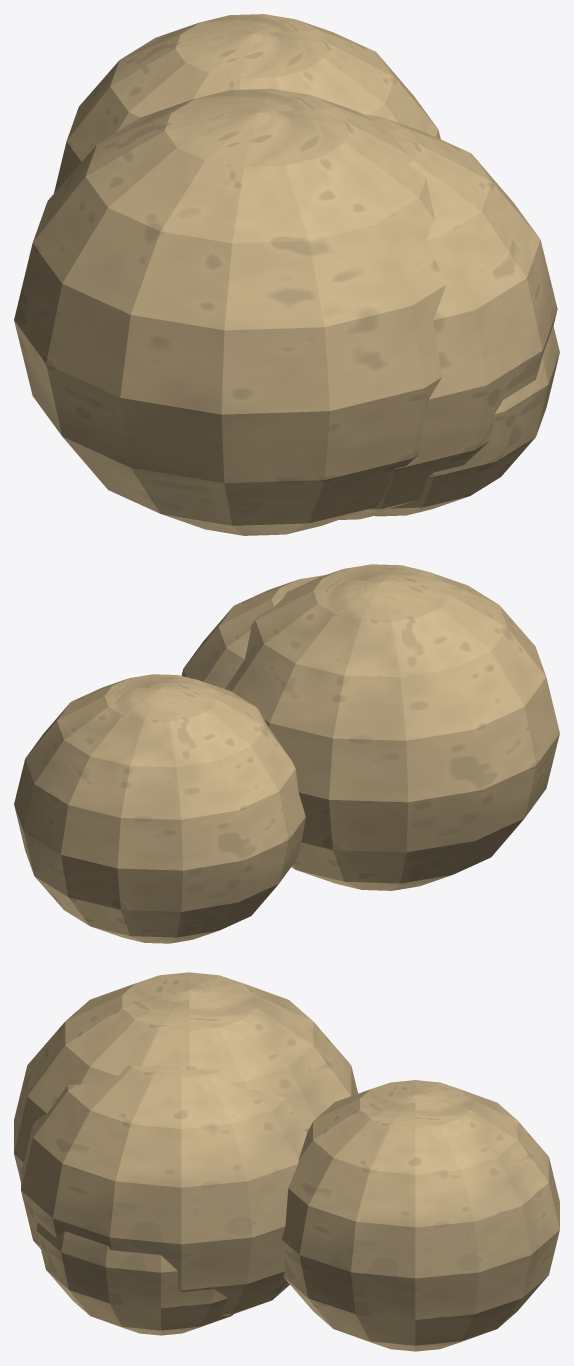
The model's file is puffball_cluster_v2.glb.
3 views of the same model, one above another, from view 1: azimuth 30°, elevation 25°; view 2: azimuth 150°, elevation 25°; view 3: azimuth 270°, elevation 25° (orthographic). The views are drawn at different scales.
Visible parts, largest first — view 1: puffball_cluster_v2; view 2: puffball_cluster_v2; view 3: puffball_cluster_v2.
Boxes of the visible parts, x1,y1,x2,y2 form: puffball_cluster_v2: (14,14,559,535); puffball_cluster_v2: (14,564,559,943); puffball_cluster_v2: (14,972,559,1351).
Bounding box in the file's own units: 0.2009 × 0.1433 × 0.2416.
Materials: 1 (1 with a texture image).
